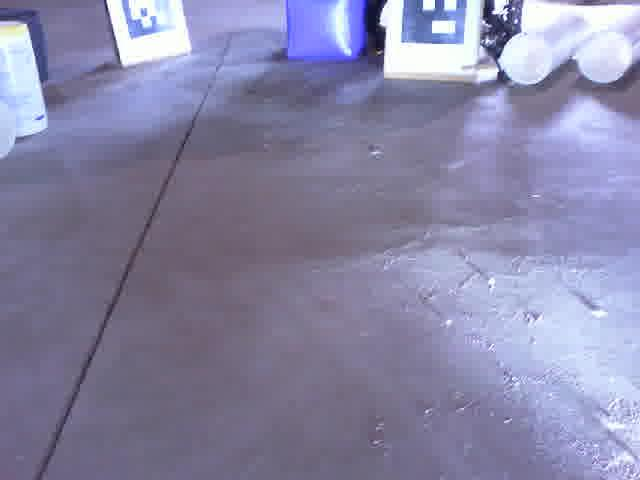coral: (497, 5, 590, 90), (575, 5, 640, 86)
